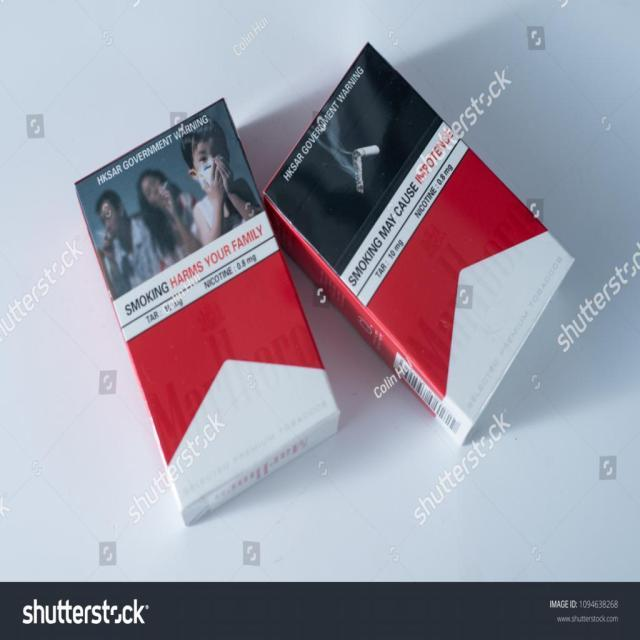smoking: (59, 5, 616, 535)
